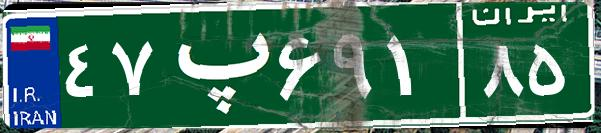1: (385, 28, 445, 110)
4: (57, 26, 110, 107)
5: (525, 38, 570, 115)
6: (273, 28, 330, 110)
7: (110, 28, 158, 105)
8: (475, 38, 525, 113)
9: (330, 28, 385, 110)
پ: (158, 15, 273, 115)
